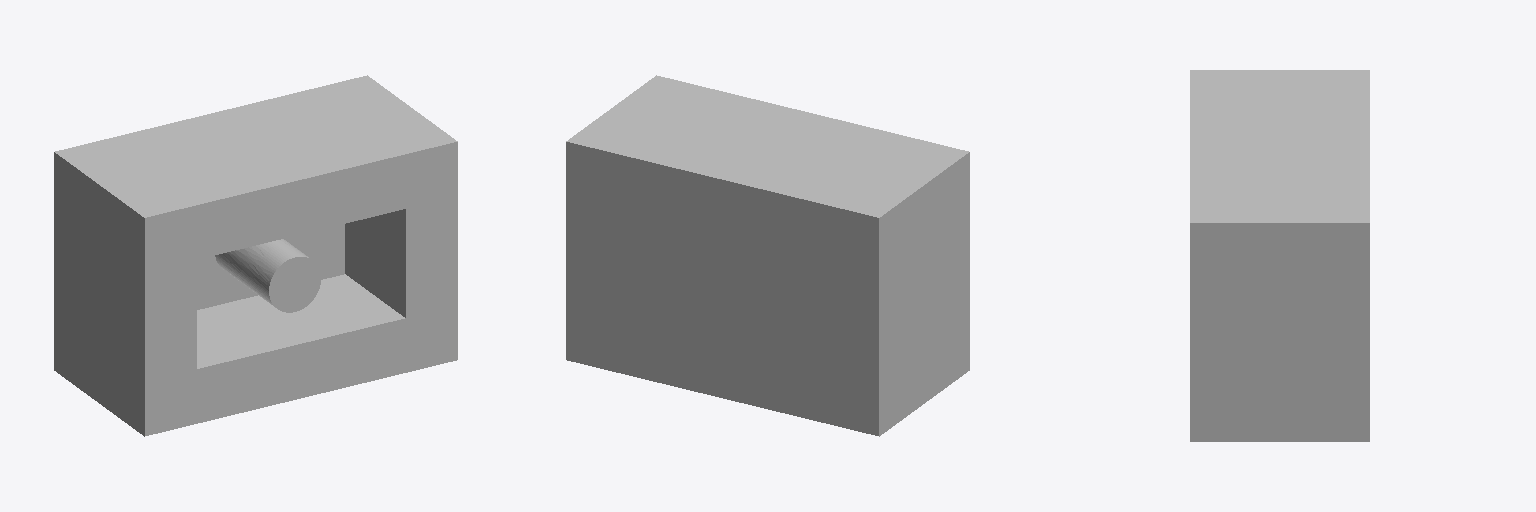
The model's file is tank49.obj.
3 views of the same model, side by side, from view 1: azimuth 30°, elevation 25°; view 2: azimuth 150°, elevation 25°; view 3: azimuth 270°, elevation 25° (orthographic).
Size of the model in its own units: 3 by 2 by 1.5.